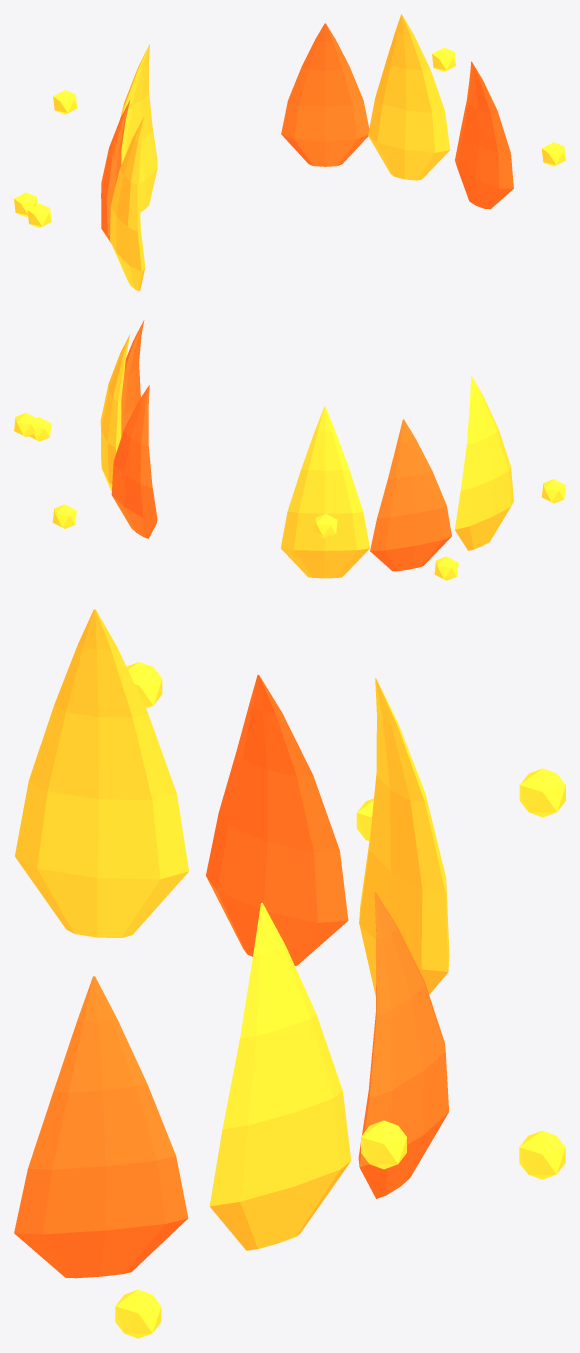
Rendered from supernova-og-v1-accessories.fbx.
3 views of the same model, one above another, from view 1: azimuth 30°, elevation 25°; view 2: azimuth 150°, elevation 25°; view 3: azimuth 270°, elevation 25° (orthographic). The views are drawn at different scales.
Parts seen in each view (by area): view 1: SolarFlame_1, SolarFlame_2, SolarFlame_0, SolarFlame_5, SolarFlame_3, SolarFlame_4, SolarCinder_5, SolarCinder_0, SolarCinder_3, SolarCinder_1, SolarCinder_4; view 2: SolarFlame_3, SolarFlame_4, SolarFlame_5, SolarFlame_2, SolarFlame_1, SolarFlame_0, SolarCinder_4, SolarCinder_3, SolarCinder_2, SolarCinder_1, SolarCinder_5; view 3: SolarFlame_5, SolarFlame_0, SolarFlame_1, SolarFlame_4, SolarFlame_3, SolarFlame_2, SolarCinder_0, SolarCinder_2, SolarCinder_3, SolarCinder_1, SolarCinder_5.
Part boxes in pixels (x1=…): SolarFlame_1: x1=368, y1=14, x2=450, y2=180; SolarFlame_2: x1=281, y1=23, x2=369, y2=166; SolarFlame_0: x1=455, y1=61, x2=513, y2=209; SolarFlame_5: x1=110, y1=117, x2=145, y2=291; SolarFlame_3: x1=120, y1=44, x2=157, y2=212; SolarFlame_4: x1=101, y1=100, x2=129, y2=242; SolarCinder_5: x1=27, y1=203, x2=51, y2=227; SolarCinder_0: x1=541, y1=142, x2=565, y2=166; SolarCinder_3: x1=53, y1=90, x2=77, y2=114; SolarCinder_1: x1=432, y1=47, x2=455, y2=71; SolarCinder_4: x1=14, y1=192, x2=37, y2=216; SolarFlame_3: x1=281, y1=406, x2=369, y2=578; SolarFlame_4: x1=370, y1=419, x2=451, y2=571; SolarFlame_5: x1=454, y1=376, x2=513, y2=550; SolarFlame_2: x1=111, y1=385, x2=157, y2=538; SolarFlame_1: x1=100, y1=335, x2=129, y2=505; SolarFlame_0: x1=121, y1=320, x2=144, y2=436; SolarCinder_4: x1=434, y1=556, x2=458, y2=580; SolarCinder_3: x1=313, y1=513, x2=337, y2=538; SolarCinder_2: x1=52, y1=504, x2=76, y2=528; SolarCinder_1: x1=14, y1=413, x2=38, y2=437; SolarCinder_5: x1=542, y1=479, x2=565, y2=503; SolarFlame_5: x1=15, y1=609, x2=188, y2=937; SolarFlame_0: x1=14, y1=976, x2=188, y2=1278; SolarFlame_1: x1=209, y1=903, x2=351, y2=1250; SolarFlame_4: x1=206, y1=674, x2=348, y2=965; SolarFlame_3: x1=359, y1=677, x2=449, y2=996; SolarFlame_2: x1=358, y1=892, x2=448, y2=1198; SolarCinder_0: x1=115, y1=1289, x2=161, y2=1338; SolarCinder_2: x1=519, y1=1130, x2=565, y2=1179; SolarCinder_3: x1=519, y1=768, x2=565, y2=817; SolarCinder_1: x1=361, y1=1120, x2=406, y2=1169; SolarCinder_5: x1=126, y1=662, x2=162, y2=708.
Bounding box in the file's own units: 1579 × 488 × 707.
